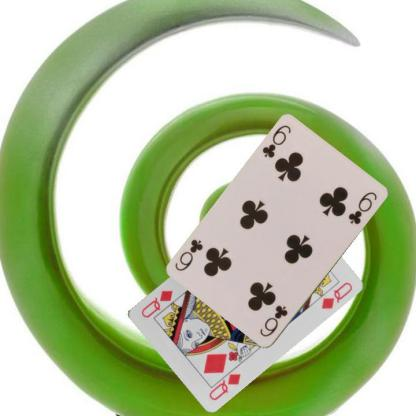6c: (257, 302, 290, 338), (260, 123, 292, 160)
Qd: (206, 362, 242, 402)
